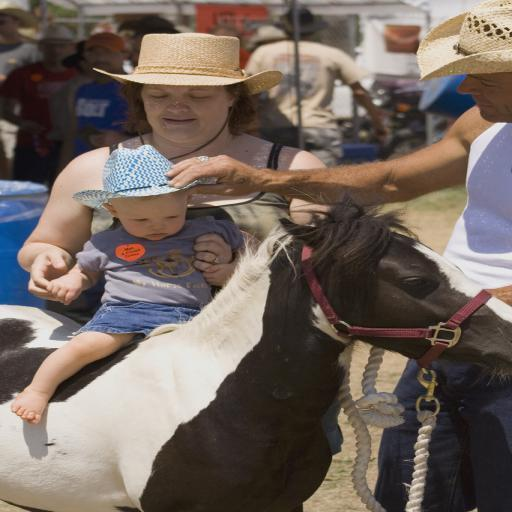horse: (0, 188, 512, 512)
